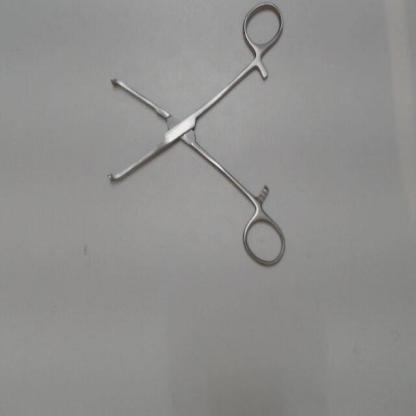Allis Tissue Forceps: (104, 2, 290, 274)
